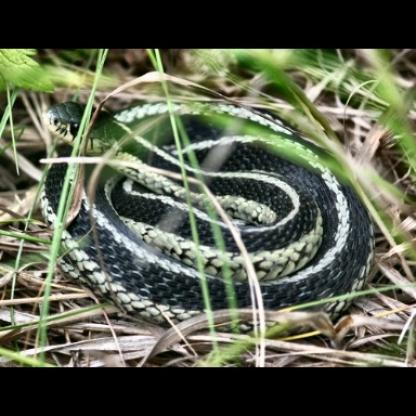Snake: (9, 90, 372, 310)
